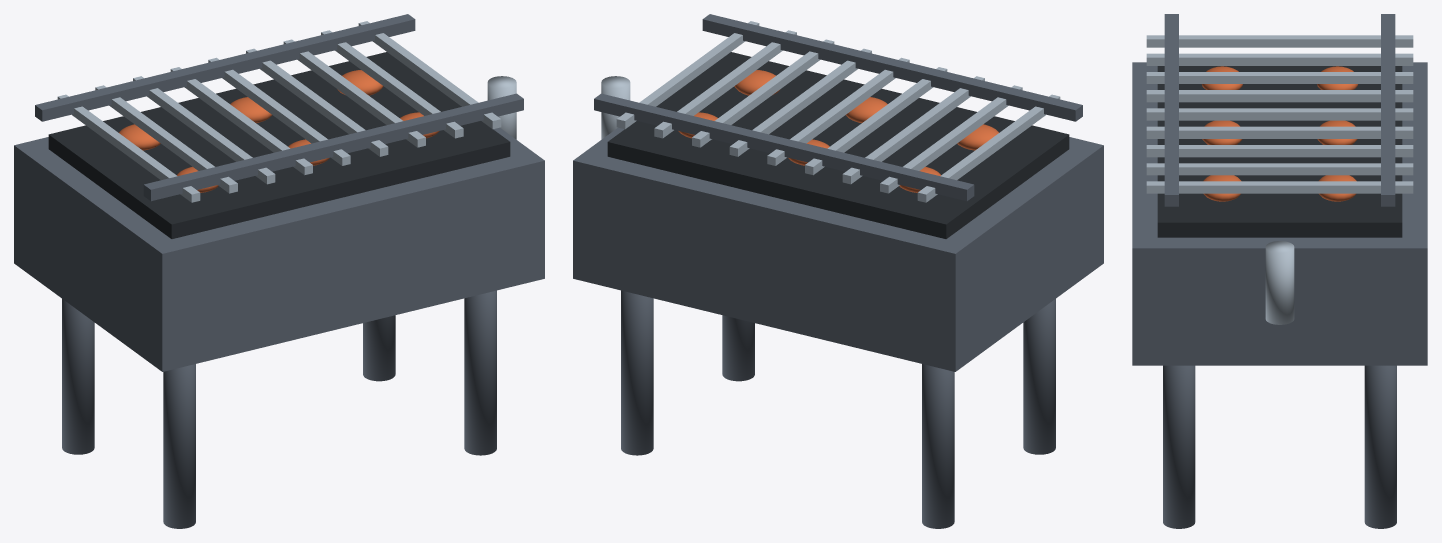
Rendered from garden.grill-old.glb.
The picture shows the model from 3 angles, left to right: view 1: azimuth 30°, elevation 25°; view 2: azimuth 150°, elevation 25°; view 3: azimuth 270°, elevation 25°; orthographic projection.
Visible parts, largest first — view 1: grill leg; view 2: grill leg; view 3: grill leg.
Part boxes in pixels (bbox=[...]): grill leg: bbox=[14, 14, 544, 528]; grill leg: bbox=[573, 14, 1103, 528]; grill leg: bbox=[1132, 14, 1427, 528].
Bounding box in the file's own units: 1.36 × 1.06 × 0.82.
